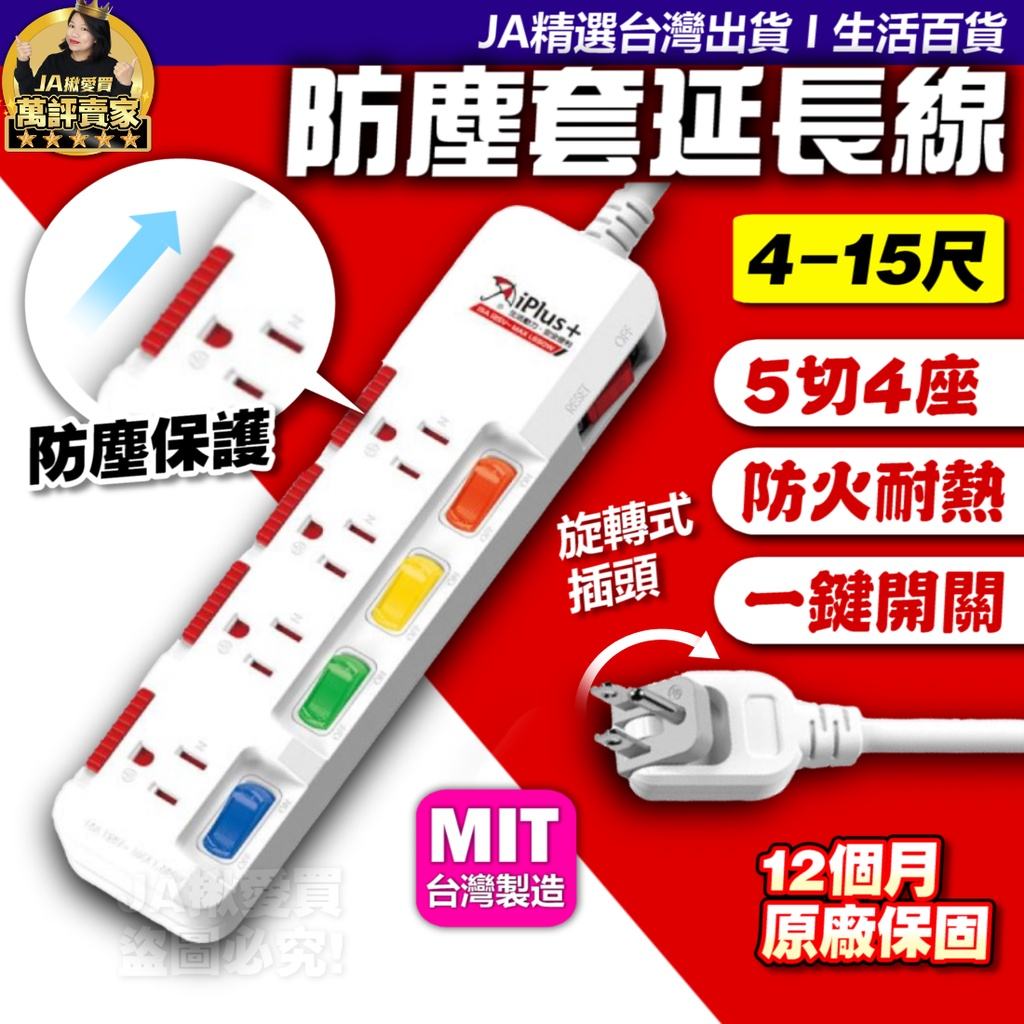socket: (49, 193, 667, 946)
